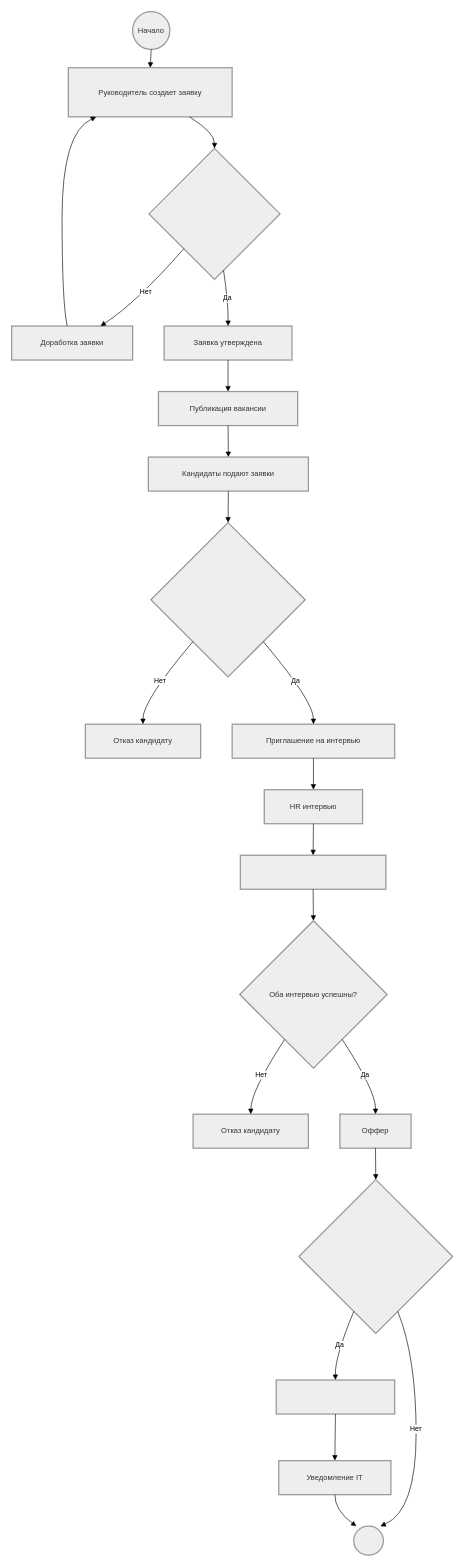
This 464x1566 diagram has some shape labels left out. The shapes that lost their labels are listed below. From the top down, each one's centre as x and y in pixels, then its label:
[214,213]: HR проверяет заявку
[228,599]: HR проверяет кандидатов
[312,872]: Техническое интервью
[375,1256]: Кандидат принял оффер?
[335,1396]: Добавление в БД
[368,1540]: Конец
